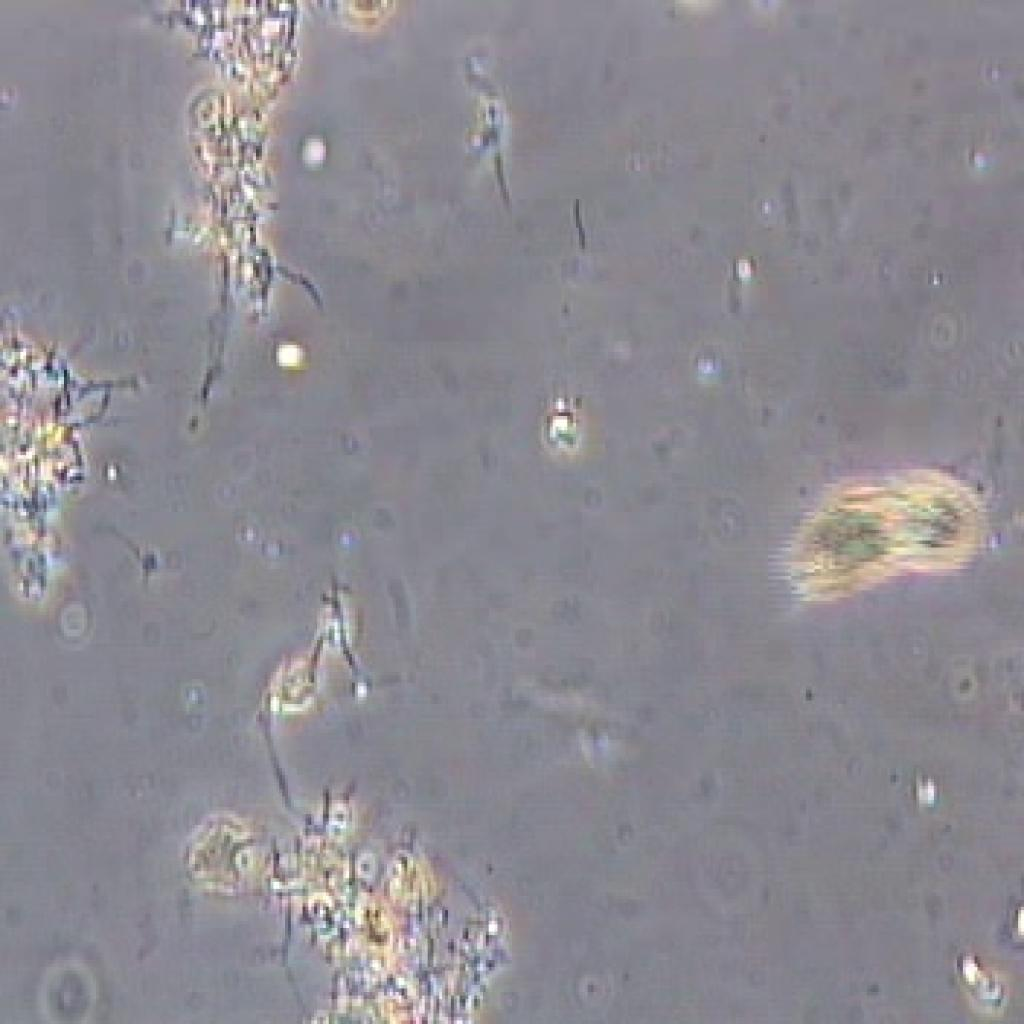Chaetonotus: (771, 464, 992, 599)
